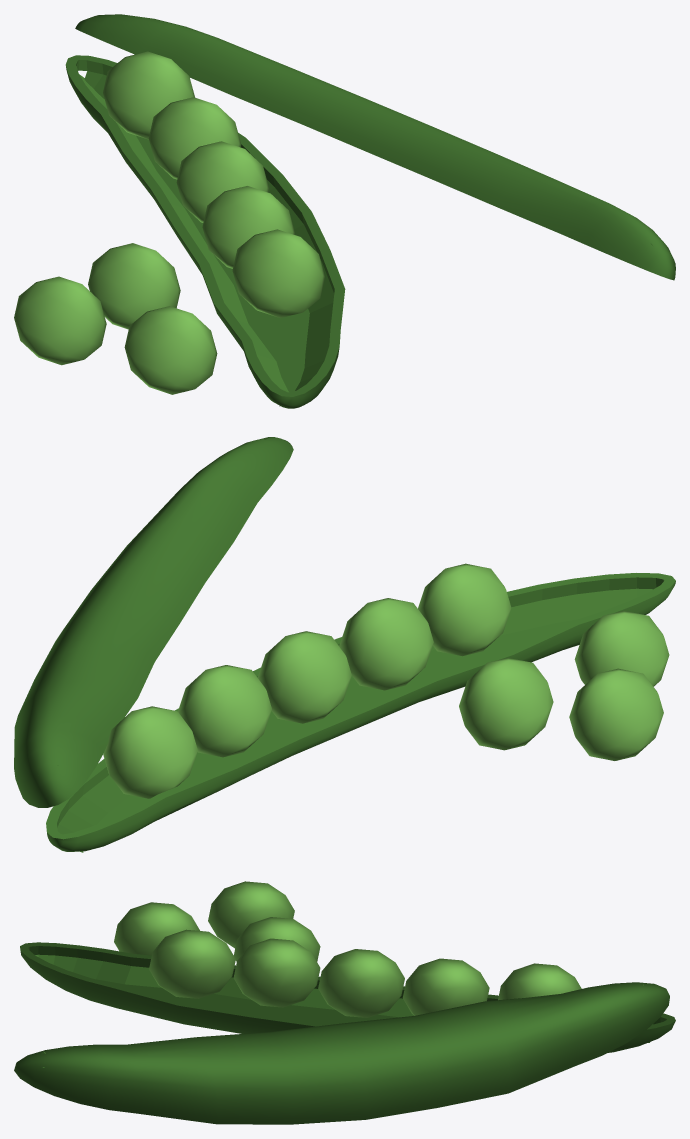
File: d7625c11-bee5-4cc7-aa79-a7bbcdecf933.glb
The picture shows the model from 3 angles, top to bottom: view 1: azimuth 30°, elevation 25°; view 2: azimuth 150°, elevation 25°; view 3: azimuth 270°, elevation 25°; orthographic projection. The views are drawn at different scales.
Parts seen in each view (by area): view 1: Capsule002; view 2: Capsule002; view 3: Capsule002.
Boxes of the visible parts, x1,y1,x2,y2 form: Capsule002: (14,14,675,408); Capsule002: (14,437,675,852); Capsule002: (14,881,675,1124).
Size of the model in its own units: 27.2 by 5.21 by 35.85.
